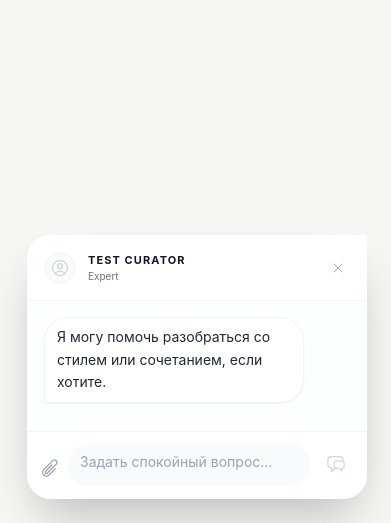
Scenario: ChatBubble › shows HandoffOptions when api returns handoffRequired: true
Type "Сколько стоит?" into the text box with placeholder "Задать спокойный вопрос…" at (189, 462), box [80,452,298,472]
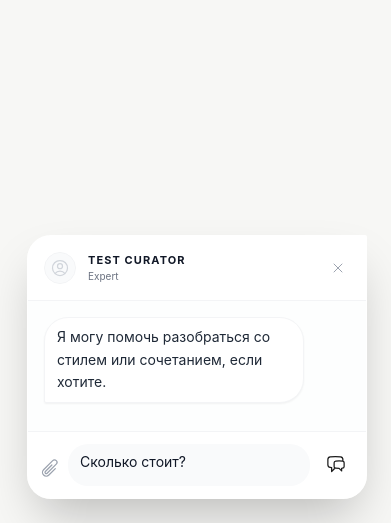
Click the 3rd button at (336, 464), box [318,446,354,482]
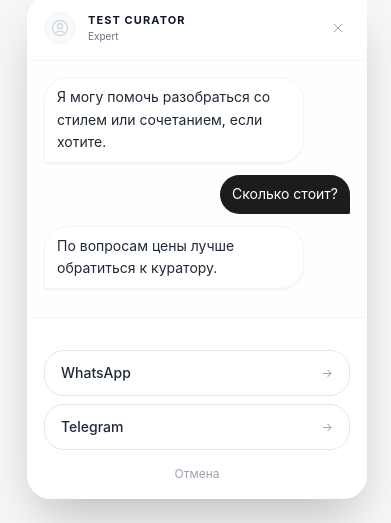
Now the text "По вопросам цены лучше обратиться к куратору." is shown, box [44,226,304,289]
Now the text "WhatsApp" is shown, box [61,363,131,383]
Now the text "Telegram" is shown, box [61,417,123,437]
